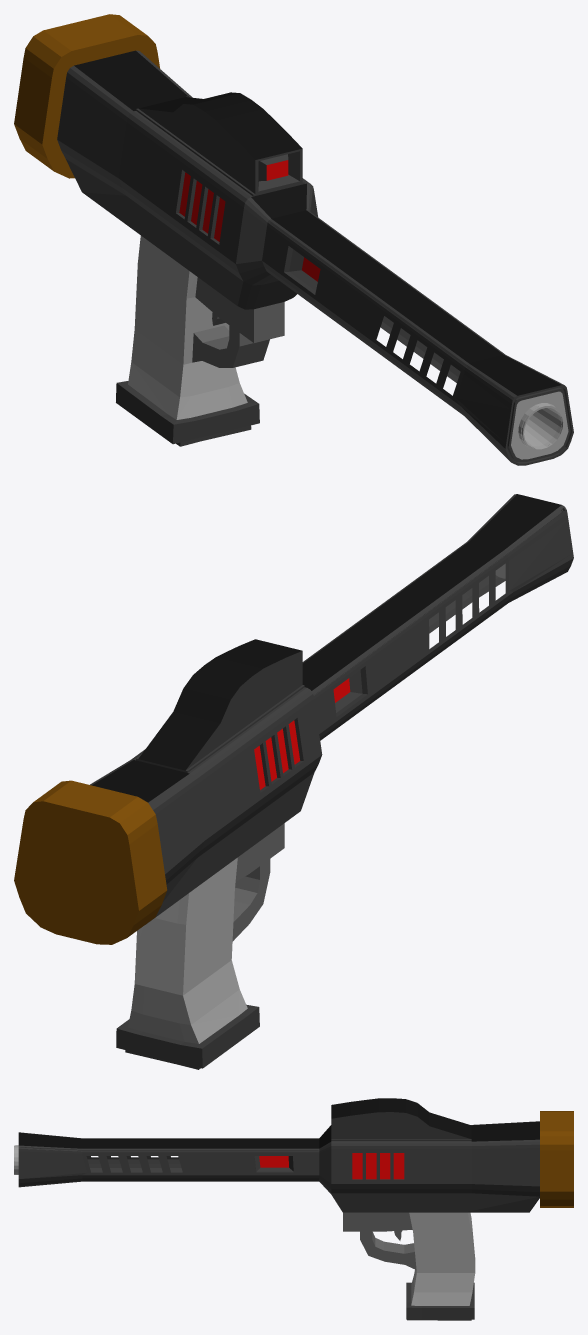
Rendered from gun2.fbx.
The picture shows the model from 3 angles, top to bottom: view 1: azimuth 30°, elevation 25°; view 2: azimuth 150°, elevation 25°; view 3: azimuth 270°, elevation 25°; orthographic projection. The views are drawn at different scales.
Visible parts, largest first — view 1: pCube1; view 2: pCube1; view 3: pCube1.
Part boxes in pixels (x1,y1,x2,y2): pCube1: (14, 14, 573, 465); pCube1: (14, 494, 573, 1069); pCube1: (14, 1098, 573, 1320).
Bounding box in the file's own units: 3.47 × 9.06 × 22.43.
